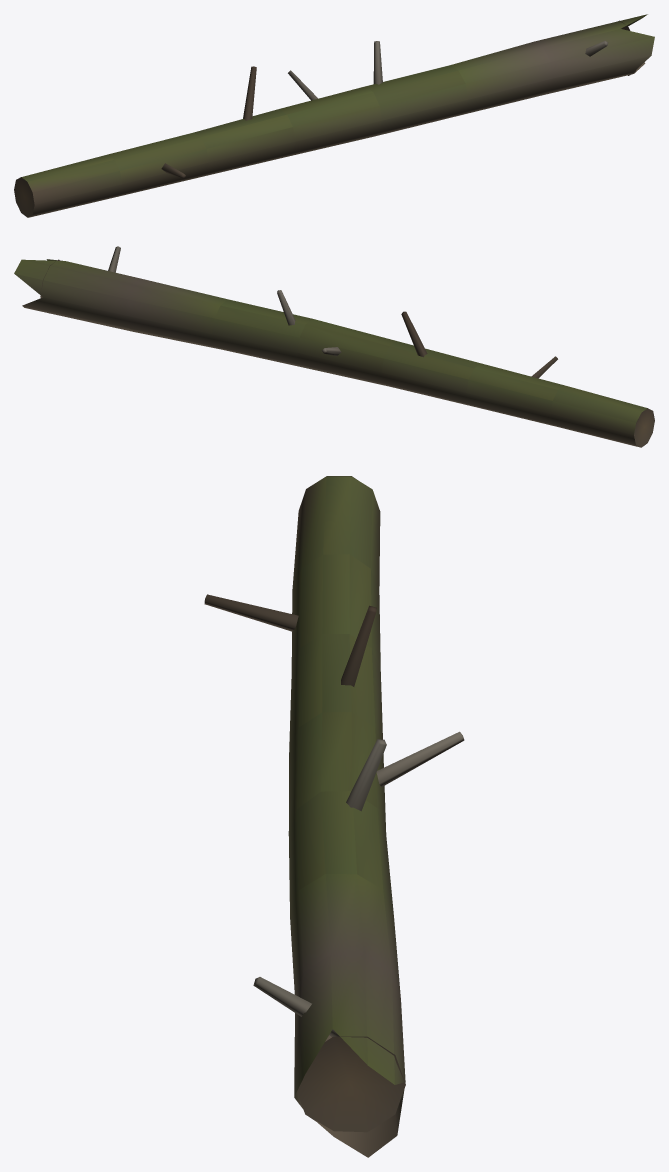
Rendered from log_b.glb.
3 renders of one model, top to bottom at view 1: azimuth 30°, elevation 25°; view 2: azimuth 150°, elevation 25°; view 3: azimuth 270°, elevation 25°, orthographic. The views are drawn at different scales.
Visible parts, largest first — view 1: LOD0; view 2: LOD0; view 3: LOD0.
Part boxes in pixels (x1,y1,x2,y2): LOD0: (14,14,654,217); LOD0: (14,246,654,447); LOD0: (204,476,464,1157).
Size of what is drawn, in the model's own units: 6.3 by 0.8739 by 1.15.
